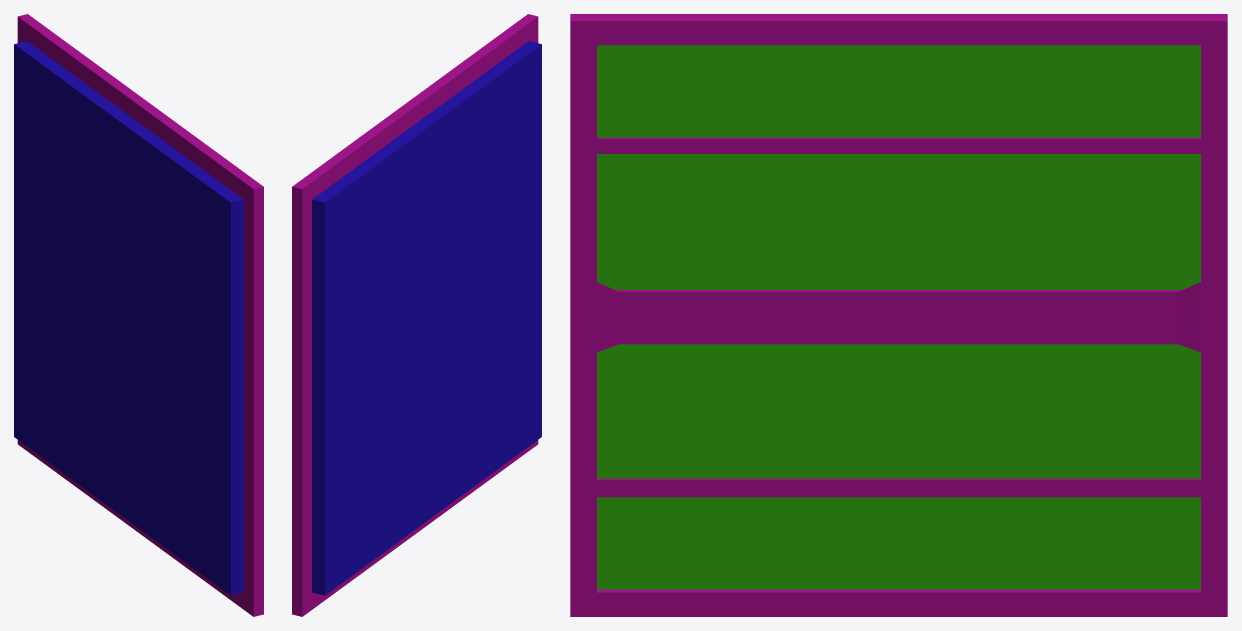
Rendered from Panel_Lowpoly.fbx.
The picture shows the model from 3 angles, left to right: view 1: azimuth 30°, elevation 25°; view 2: azimuth 150°, elevation 25°; view 3: azimuth 270°, elevation 25°; orthographic projection. The views are drawn at different scales.
Parts seen in each view (by area): view 1: pCube1; view 2: pCube1; view 3: pCube1.
Part boxes in pixels (x1=…): pCube1: x1=14, y1=14, x2=263, y2=616; pCube1: x1=292, y1=14, x2=541, y2=616; pCube1: x1=570, y1=14, x2=1227, y2=616.
Bounding box in the file's own units: 0.3759 × 6.58 × 6.58.
